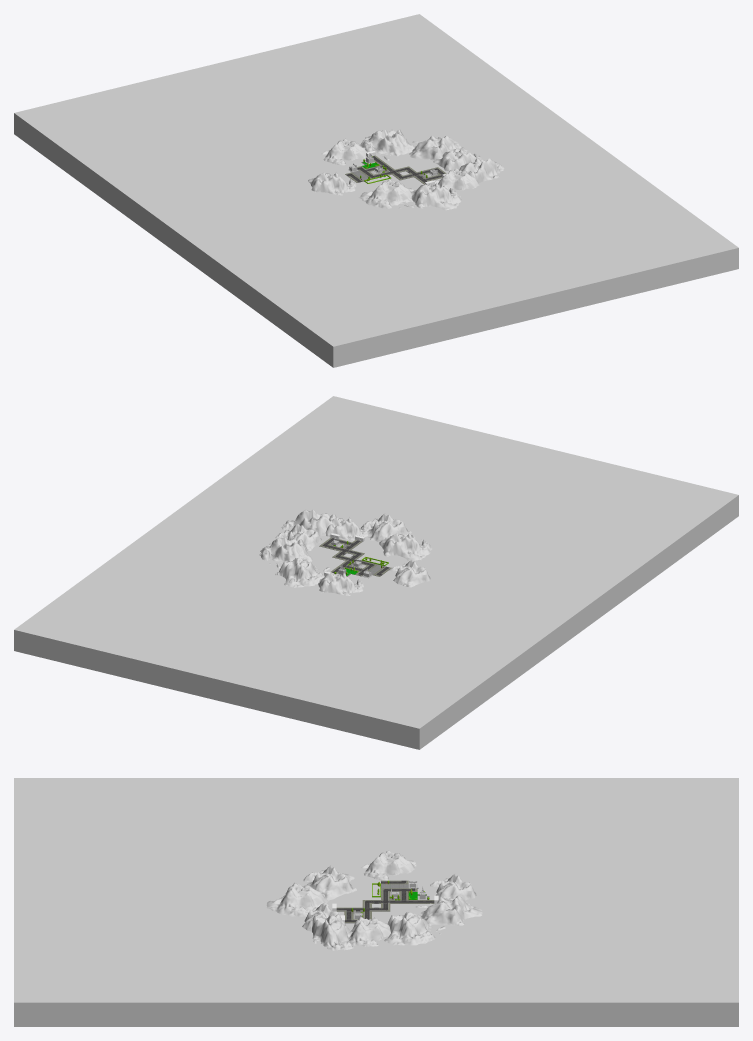
Rendered from Level.fbx.
3 views of the same model, one above another, from view 1: azimuth 30°, elevation 25°; view 2: azimuth 150°, elevation 25°; view 3: azimuth 270°, elevation 25° (orthographic). The views are drawn at different scales.
Visible parts, largest first — view 1: Level; view 2: Level; view 3: Level.
Boxes of the visible parts, x1,y1,x2,y2 form: Level: (14, 14, 738, 367); Level: (14, 396, 738, 749); Level: (14, 778, 738, 1026).
Bounding box in the file's own units: 156413 × 13587 × 213377.
